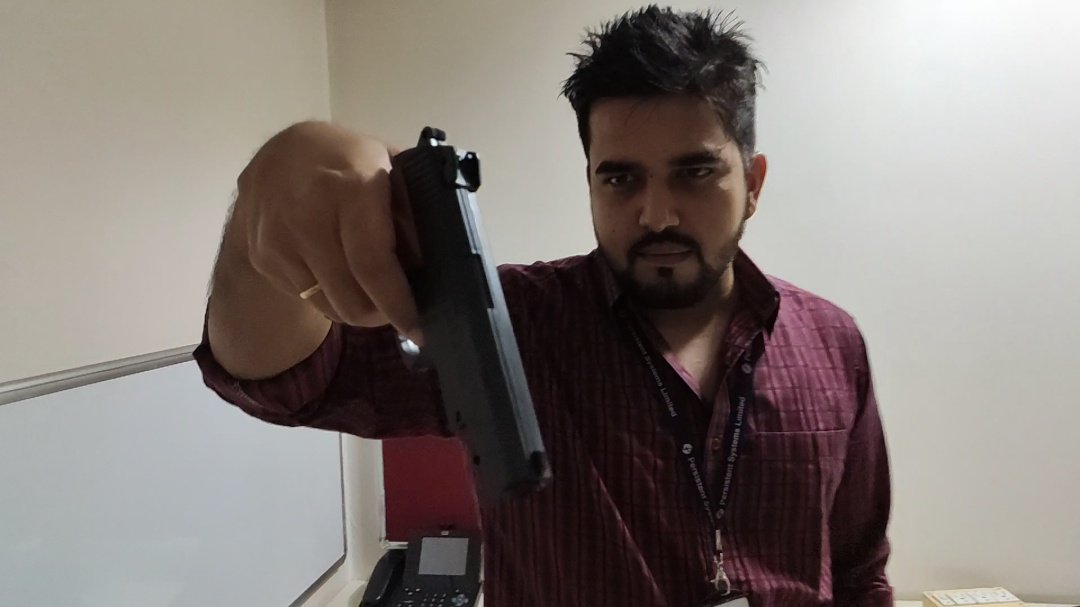gun: (339, 120, 572, 508)
